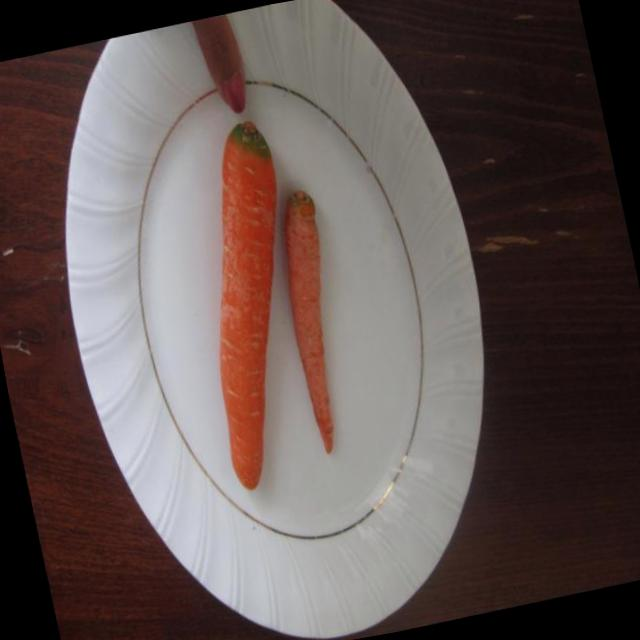Carrot: (152, 107, 342, 500), (259, 177, 377, 464)
Finger: (190, 10, 262, 121)
